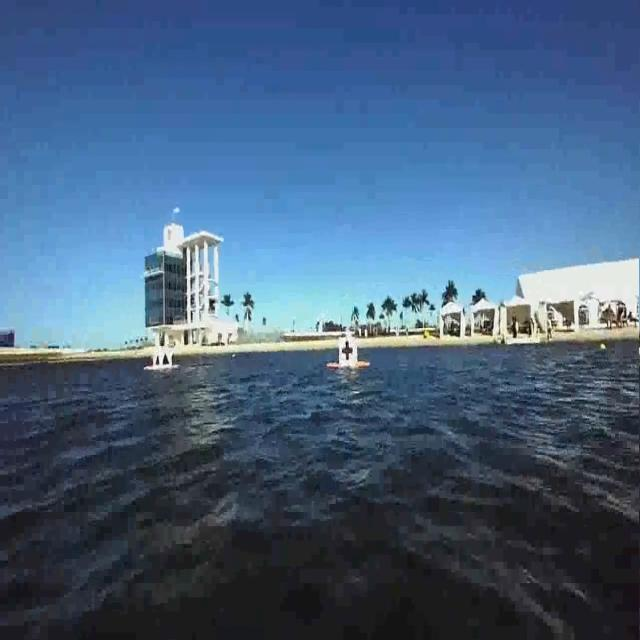yellow-buoy: (600, 342, 607, 353)
